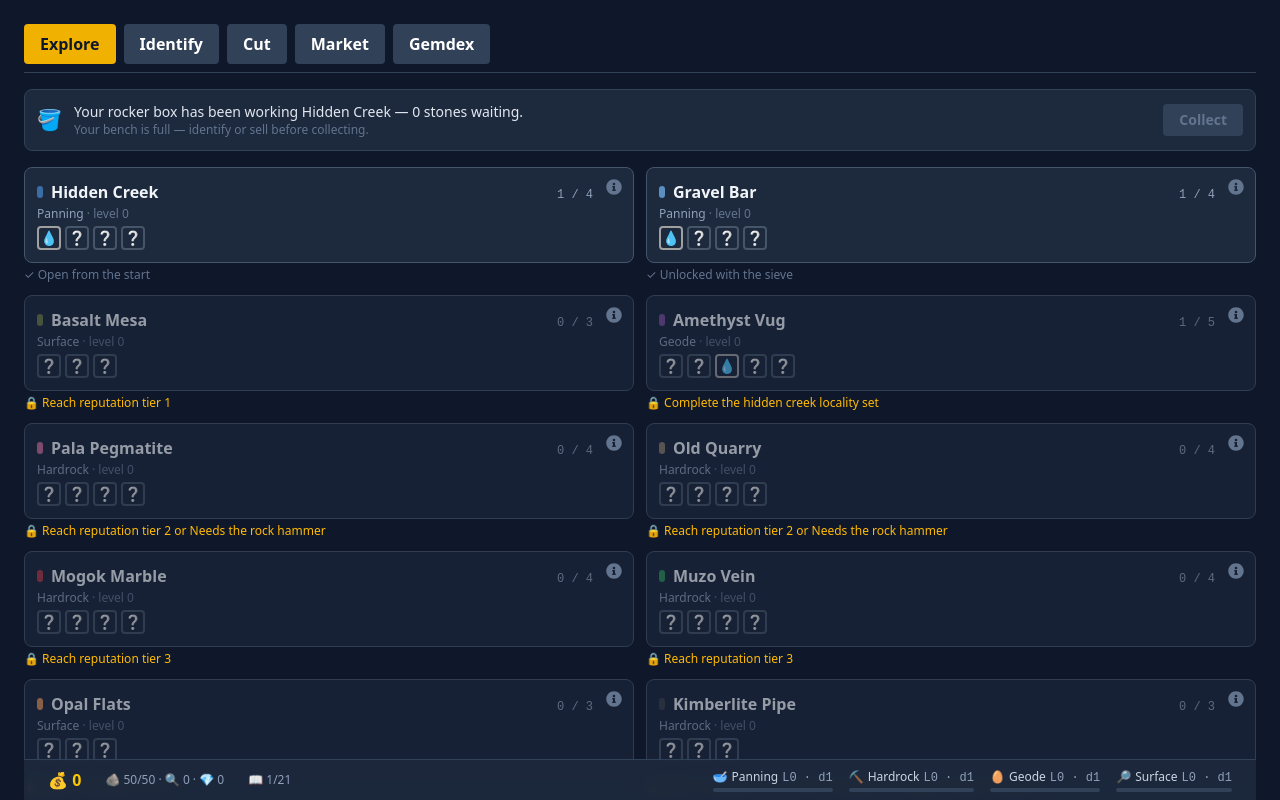
the rocker box end to end › allows moving the box when the bench is full but nothing has accrued
Click the button with aria-label "Gravel Bar,". click: click(715, 192)
box: [646, 167, 1256, 263]
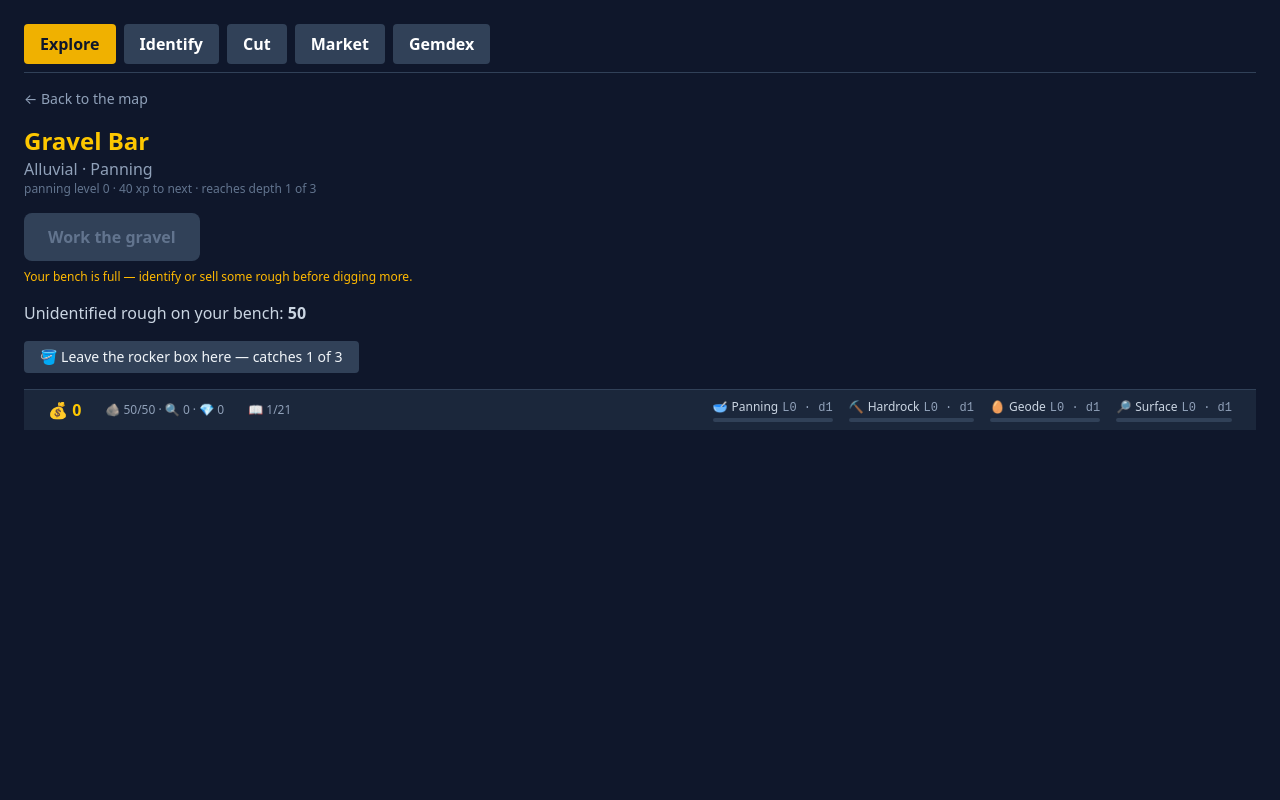
expect the button "🪣 Leave the rocker box here — catches 1 of 3" is enabled: met, box [24, 341, 358, 373]
